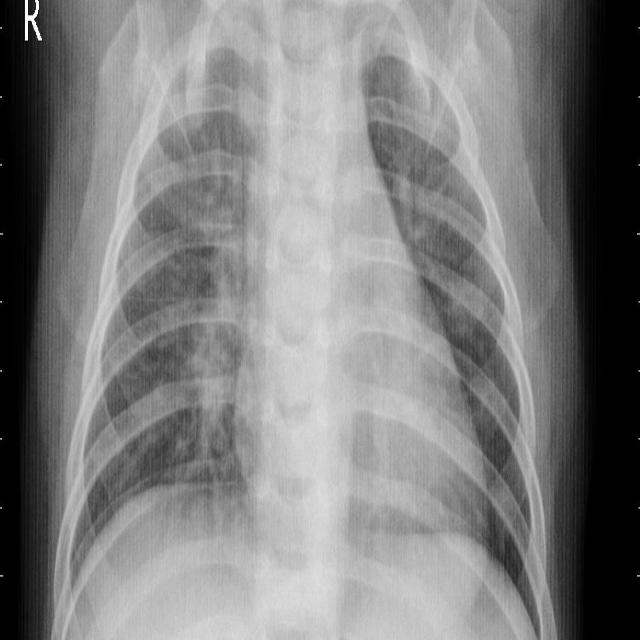high-pneumonia: (373, 1, 478, 225)
low-pneumonia: (180, 154, 252, 439), (390, 132, 457, 279)
